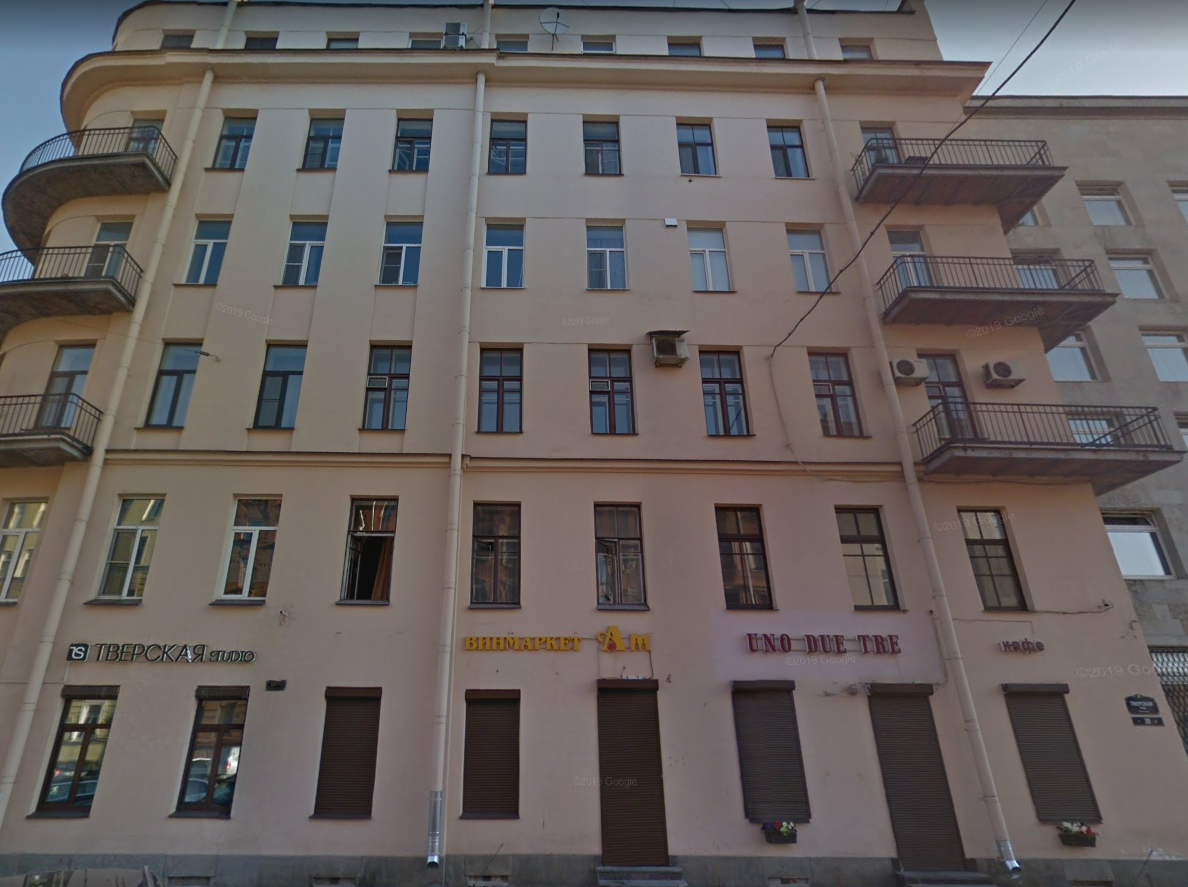door: (864, 682, 965, 877), (600, 679, 666, 886)
signboard: (59, 635, 257, 665), (460, 621, 655, 651), (744, 626, 909, 659), (996, 633, 1048, 655)
window: (1004, 682, 1104, 824), (726, 680, 794, 828), (963, 502, 1043, 614), (56, 686, 121, 820), (186, 686, 247, 822), (92, 495, 167, 603), (324, 686, 377, 820), (466, 688, 519, 819), (833, 504, 889, 615), (218, 496, 275, 604), (592, 497, 646, 610), (712, 504, 770, 608), (343, 491, 396, 602), (140, 342, 203, 430), (355, 340, 415, 432), (472, 502, 521, 610), (35, 341, 94, 429), (922, 346, 973, 442), (809, 349, 865, 434), (255, 340, 307, 430), (475, 216, 529, 295), (703, 348, 745, 438), (480, 347, 522, 431), (275, 220, 325, 290), (375, 219, 422, 290), (185, 216, 229, 289), (594, 345, 630, 434), (788, 224, 833, 292), (687, 224, 733, 289), (588, 220, 626, 293), (299, 116, 344, 174), (211, 111, 255, 169), (389, 115, 431, 172), (679, 118, 718, 179), (487, 116, 528, 174), (767, 123, 808, 176), (582, 116, 619, 172)
